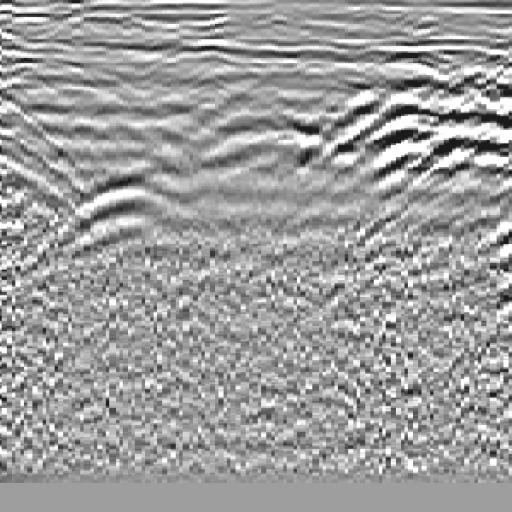metalic: (54, 153, 201, 281)
nonmetalic: (321, 46, 512, 263)
